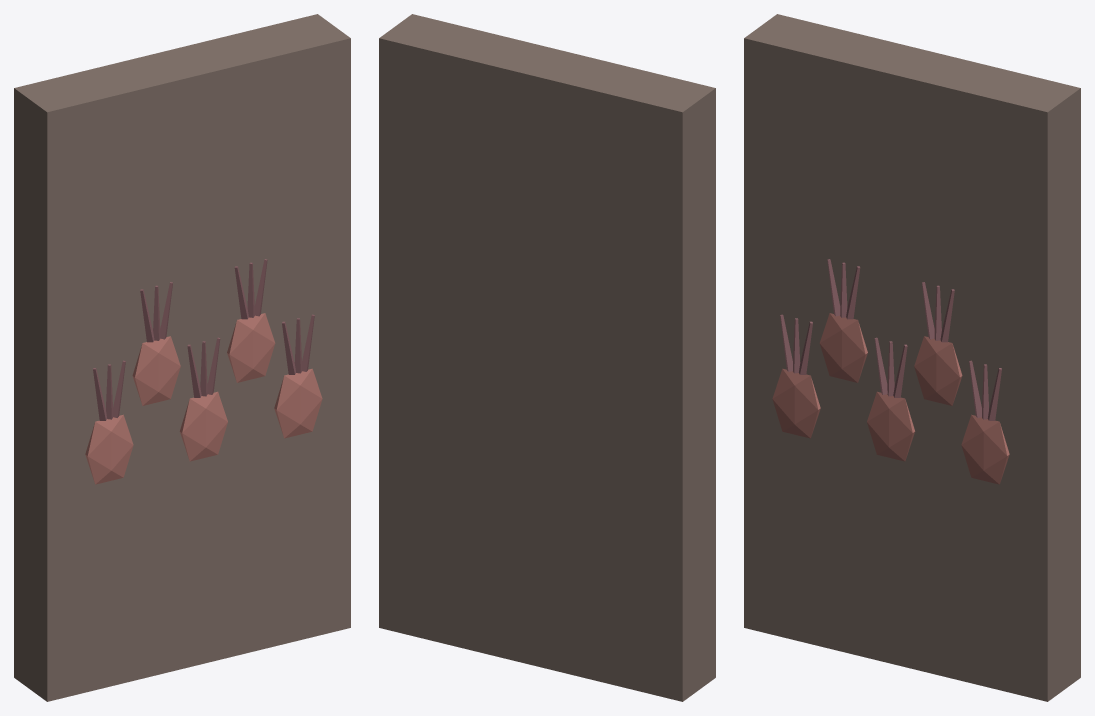
The model's file is handprint_shutter.glb.
3 views of the same model, side by side, from view 1: azimuth 30°, elevation 25°; view 2: azimuth 150°, elevation 25°; view 3: azimuth 330°, elevation 25° (orthographic).
Visible parts, largest first — view 1: handprint_shutter_material_00, handprint_shutter_material_01, handprint_shutter_material_02; view 2: handprint_shutter_material_00; view 3: handprint_shutter_material_00, handprint_shutter_material_01, handprint_shutter_material_02.
Boxes of the visible parts, x1=… form: handprint_shutter_material_00: x1=14, y1=14, x2=350, y2=701; handprint_shutter_material_01: x1=85, y1=313, x2=322, y2=484; handprint_shutter_material_02: x1=93, y1=259, x2=314, y2=420; handprint_shutter_material_00: x1=379, y1=14, x2=715, y2=701; handprint_shutter_material_00: x1=744, y1=14, x2=1080, y2=701; handprint_shutter_material_01: x1=772, y1=313, x2=1009, y2=484; handprint_shutter_material_02: x1=780, y1=259, x2=1001, y2=420.
Size of the model in its own units: 0.9 by 1.67 by 0.207.
